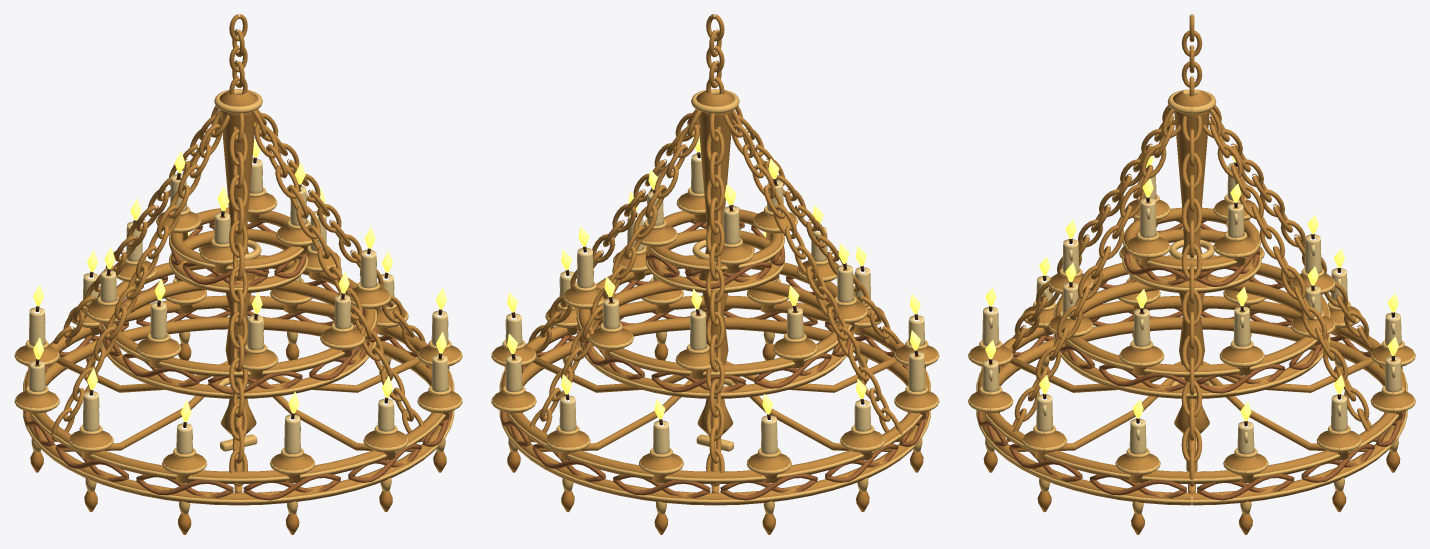
File: skete-chandelier.glb
3 views of the same model, side by side, from view 1: azimuth 30°, elevation 25°; view 2: azimuth 150°, elevation 25°; view 3: azimuth 270°, elevation 25° (orthographic).
Parts seen in each view (by area): view 1: cast arms and interlocking chain, hammered rims and cross, beeswax candles and drips, arched filigree, candle flames, amber pendants; view 2: cast arms and interlocking chain, hammered rims and cross, beeswax candles and drips, arched filigree, candle flames, amber pendants; view 3: cast arms and interlocking chain, hammered rims and cross, beeswax candles and drips, arched filigree, candle flames, amber pendants.
Part boxes in pixels (<box>): cast arms and interlocking chain: <box>16,14,460,505</box>; hammered rims and cross: <box>14,89,462,514</box>; beeswax candles and drips: <box>28,158,448,454</box>; arched filigree: <box>24,221,452,500</box>; candle flames: <box>33,139,446,422</box>; amber pendants: <box>30,343,446,534</box>; cast arms and interlocking chain: <box>493,14,937,505</box>; hammered rims and cross: <box>491,89,939,514</box>; beeswax candles and drips: <box>505,153,924,454</box>; arched filigree: <box>501,221,928,500</box>; candle flames: <box>507,136,920,419</box>; amber pendants: <box>507,343,923,534</box>; cast arms and interlocking chain: <box>969,14,1414,505</box>; hammered rims and cross: <box>968,89,1415,514</box>; beeswax candles and drips: <box>982,162,1401,455</box>; arched filigree: <box>977,220,1405,500</box>; candle flames: <box>985,144,1398,421</box>; amber pendants: <box>983,366,1400,534</box>.
Size of the model in its own units: 3.24 by 3.65 by 3.25.
